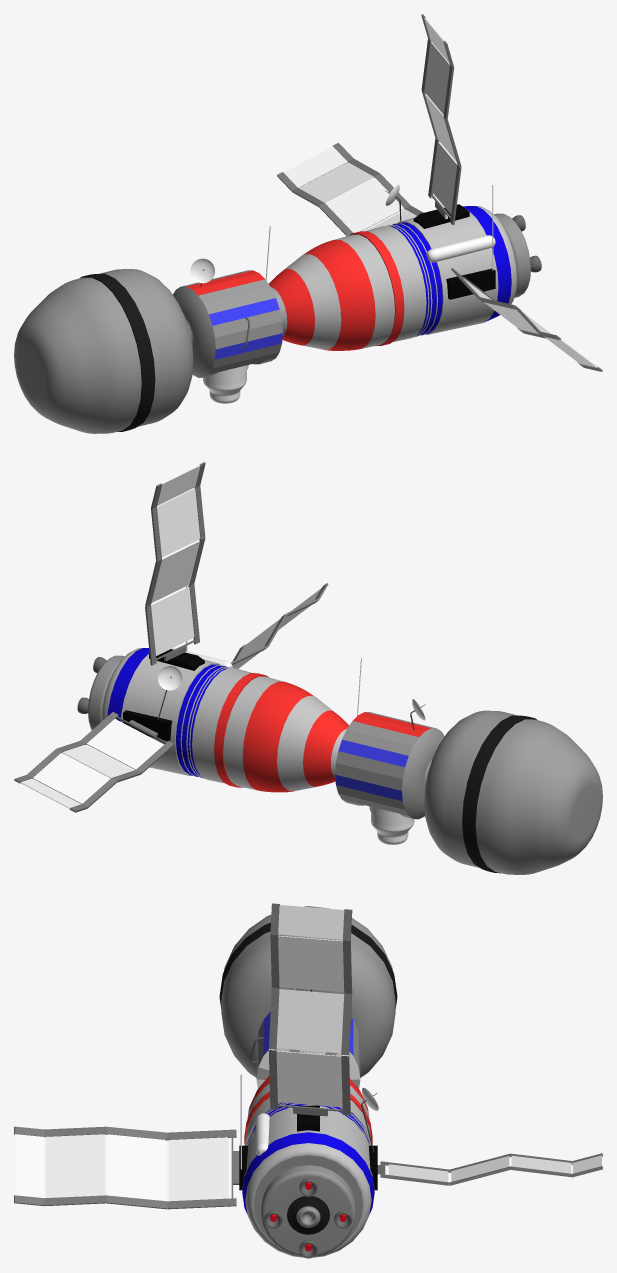
The model's file is salyuta.glb.
3 renders of one model, top to bottom at view 1: azimuth 30°, elevation 25°; view 2: azimuth 150°, elevation 25°; view 3: azimuth 270°, elevation 25°, orthographic. The views are drawn at different scales.
Visible parts, largest first — view 1: salyuta; view 2: salyuta; view 3: salyuta.
Part boxes in pixels (box(x1,y1,x2,y2)): salyuta: box(14, 14, 602, 433); salyuta: box(14, 462, 602, 874); salyuta: box(14, 903, 602, 1258).
Size of the model in its own units: 21.5 by 13.25 by 20.24.
